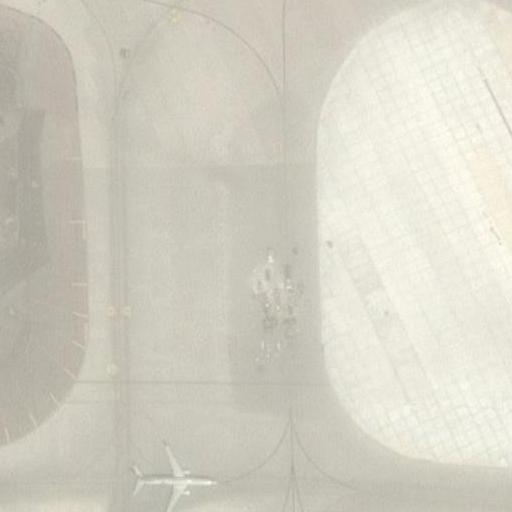Aircraft: (135, 450, 217, 512)
